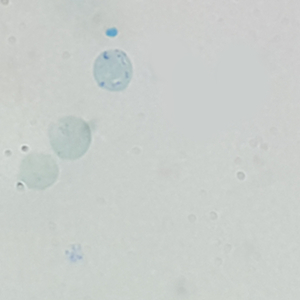aggregate reticulocyte: (91, 47, 135, 92)
erythrocyte: (46, 114, 93, 162), (16, 150, 62, 192)
